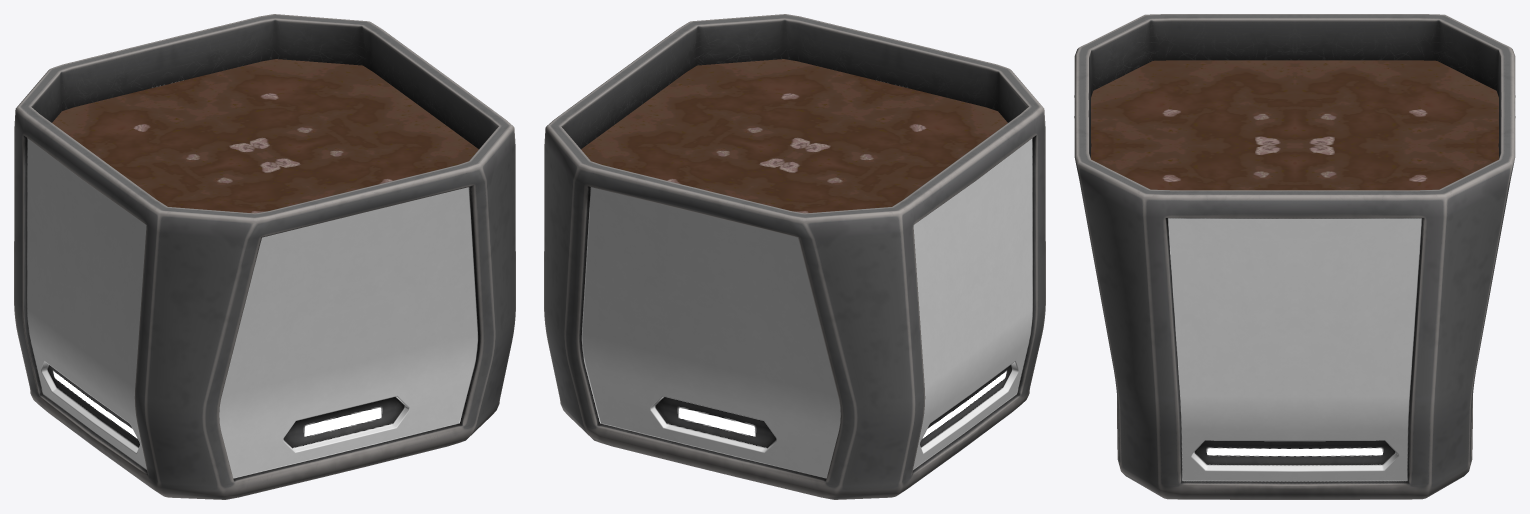
File: Planter03_4.FBX
The picture shows the model from 3 angles, left to right: view 1: azimuth 30°, elevation 25°; view 2: azimuth 150°, elevation 25°; view 3: azimuth 270°, elevation 25°; orthographic projection. The views are drawn at different scales.
Parts seen in each view (by area): view 1: Planter03_4; view 2: Planter03_4; view 3: Planter03_4.
Part boxes in pixels (<box>): Planter03_4: <box>14,14,515,499</box>; Planter03_4: <box>544,14,1045,499</box>; Planter03_4: <box>1074,14,1515,499</box>.
Size of what is drawn, in the model's own units: 0.6359 by 0.4899 by 0.6213.
